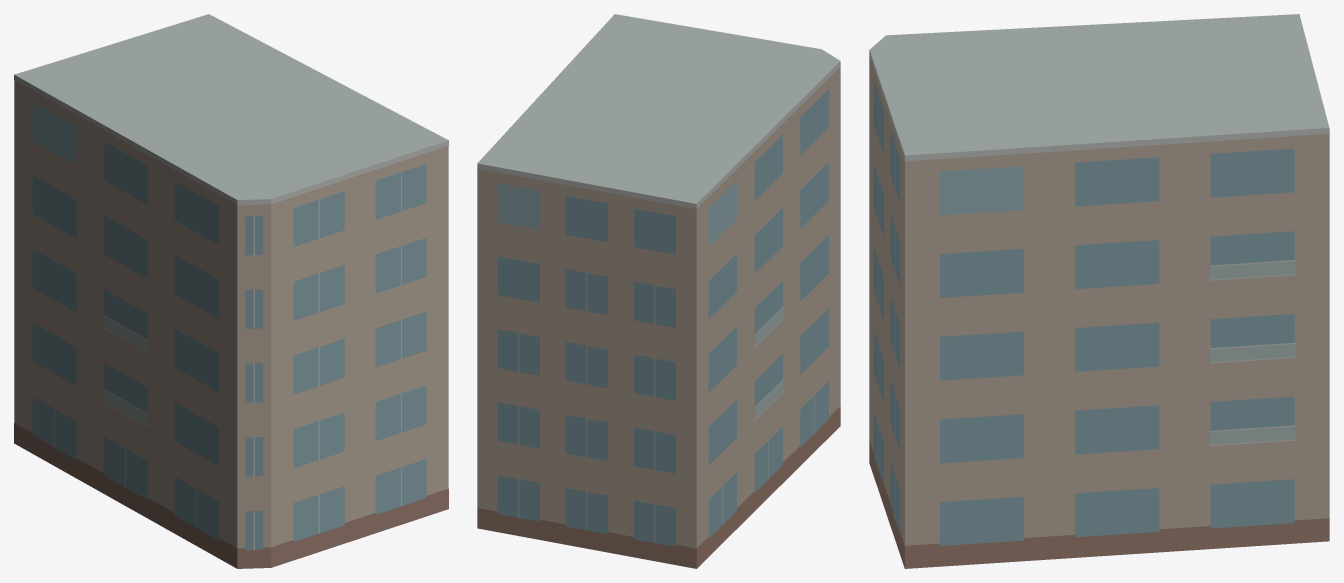
File: survey-upis-32989931.glb
3 views of the same model, side by side, from view 1: azimuth 30°, elevation 25°; view 2: azimuth 150°, elevation 25°; view 3: azimuth 270°, elevation 25° (orthographic). The views are drawn at different scales.
Visible parts, largest first — view 1: survey-upis-32989931.tmp; view 2: survey-upis-32989931.tmp; view 3: survey-upis-32989931.tmp.
Part boxes in pixels (left/top/right/bottom): survey-upis-32989931.tmp: left=14, top=14, right=448, bottom=568; survey-upis-32989931.tmp: left=477, top=14, right=840, bottom=568; survey-upis-32989931.tmp: left=869, top=14, right=1329, bottom=568.
Size of the model in its own units: 12.64 by 17.2 by 17.36.
